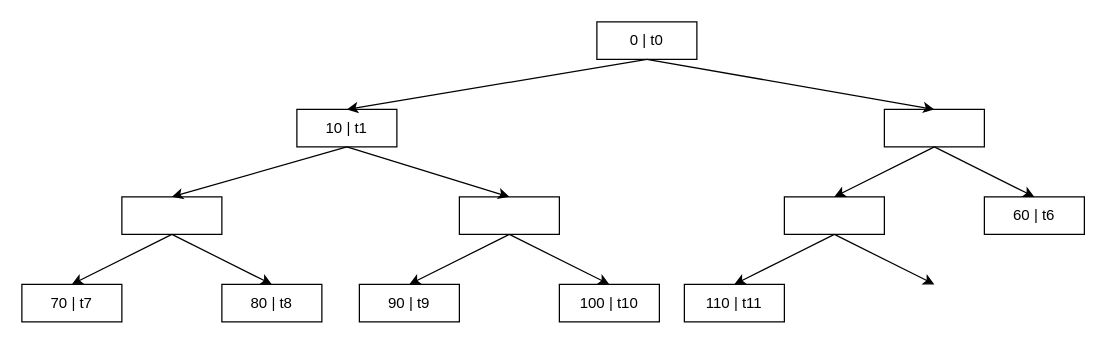
The diagram is 1106 pixels wide and 344 high, and some of its shapes have lost their labels. The box of each missing label's shape, as (x1, y1, x2, y2) in pixels:
20 | t2: (883, 108, 984, 147)
30 | t3: (121, 196, 222, 234)
40 | t4: (458, 196, 559, 234)
50 | t5: (783, 196, 884, 234)
